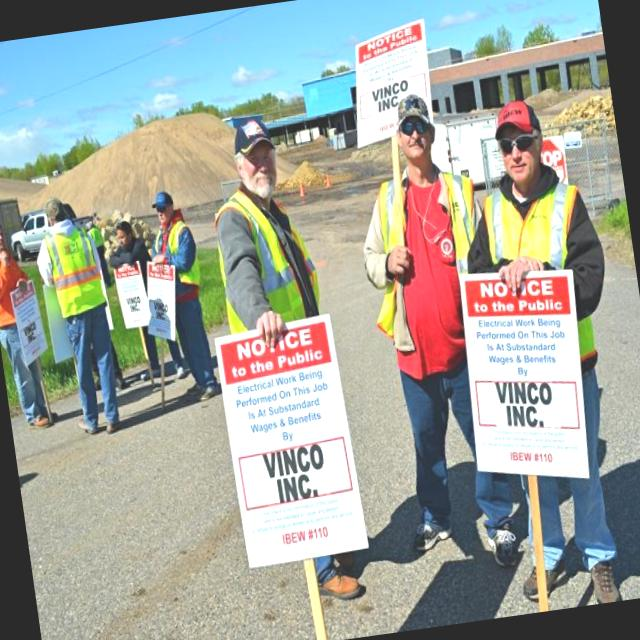vest: (40, 216, 110, 324)
